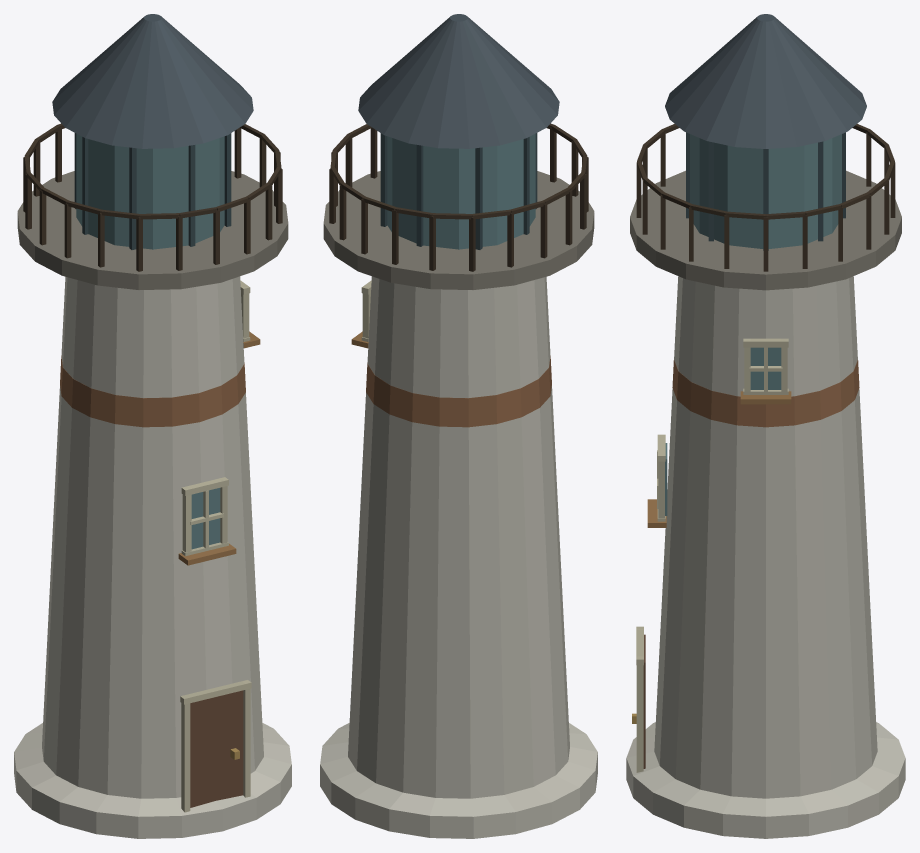
Rendered from Building_Landmark_Lighthouse_001.glb.
3 renders of one model, left to right at view 1: azimuth 30°, elevation 25°; view 2: azimuth 150°, elevation 25°; view 3: azimuth 270°, elevation 25°, orthographic.
Visible parts, largest first — view 1: Building_Landmark_Lighthouse_001; view 2: Building_Landmark_Lighthouse_001; view 3: Building_Landmark_Lighthouse_001.
Part boxes in pixels (x1,y1,x2,y2): Building_Landmark_Lighthouse_001: (14, 14, 291, 838); Building_Landmark_Lighthouse_001: (320, 14, 597, 838); Building_Landmark_Lighthouse_001: (626, 14, 905, 838).
Bounding box in the file's own units: 4 × 12.05 × 4.
